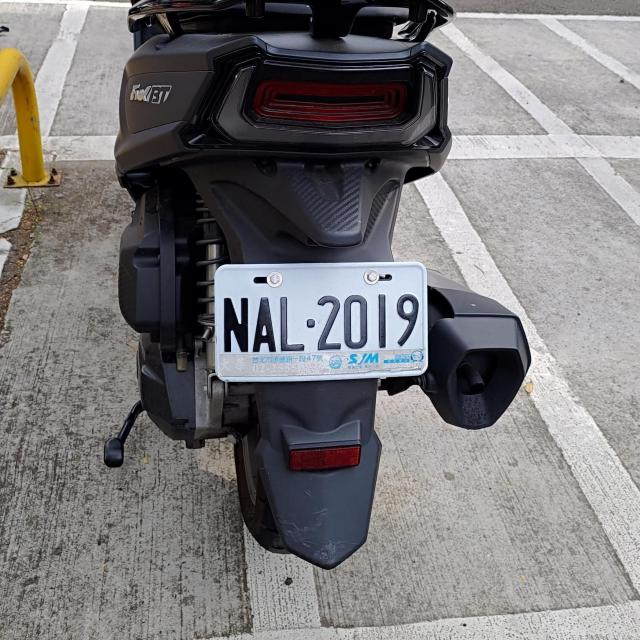W: (210, 261, 428, 382)
